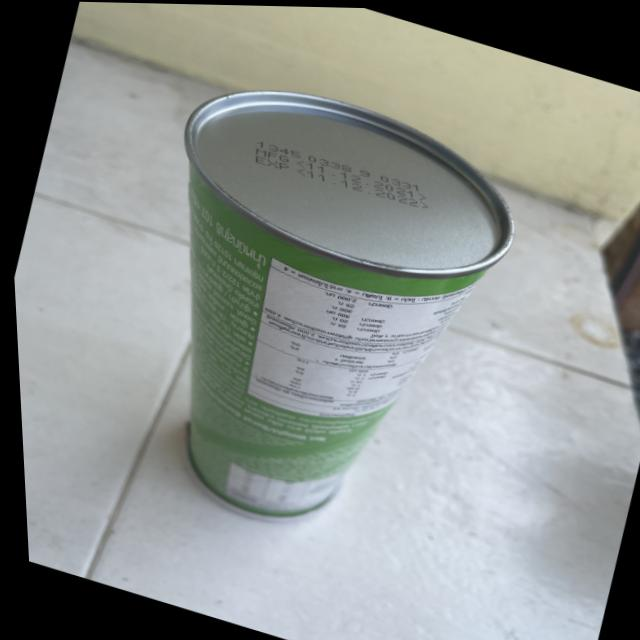a pringles: (70, 43, 555, 585)
